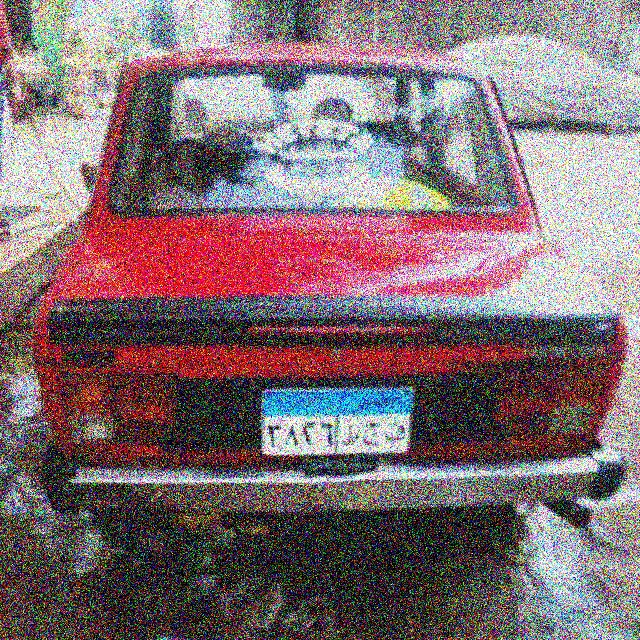License Plate: (258, 384, 417, 459)
